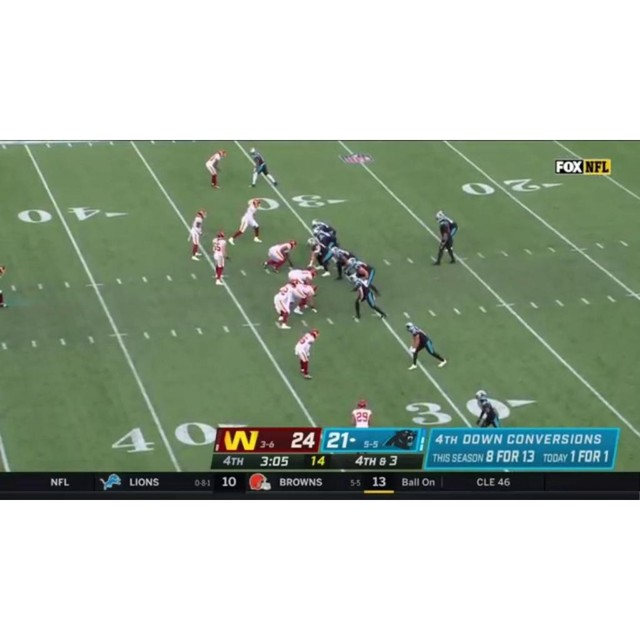american-football-player: (406, 321, 447, 370), (347, 272, 387, 322), (230, 198, 262, 244), (432, 210, 458, 266), (294, 328, 320, 379), (248, 146, 278, 188), (274, 280, 299, 330), (262, 239, 297, 274), (345, 257, 379, 293), (474, 390, 503, 428), (211, 230, 230, 285), (306, 236, 331, 277), (187, 209, 207, 260), (327, 244, 353, 282), (293, 282, 318, 315), (205, 150, 226, 189), (351, 399, 373, 429), (311, 221, 338, 244), (288, 265, 317, 286)
